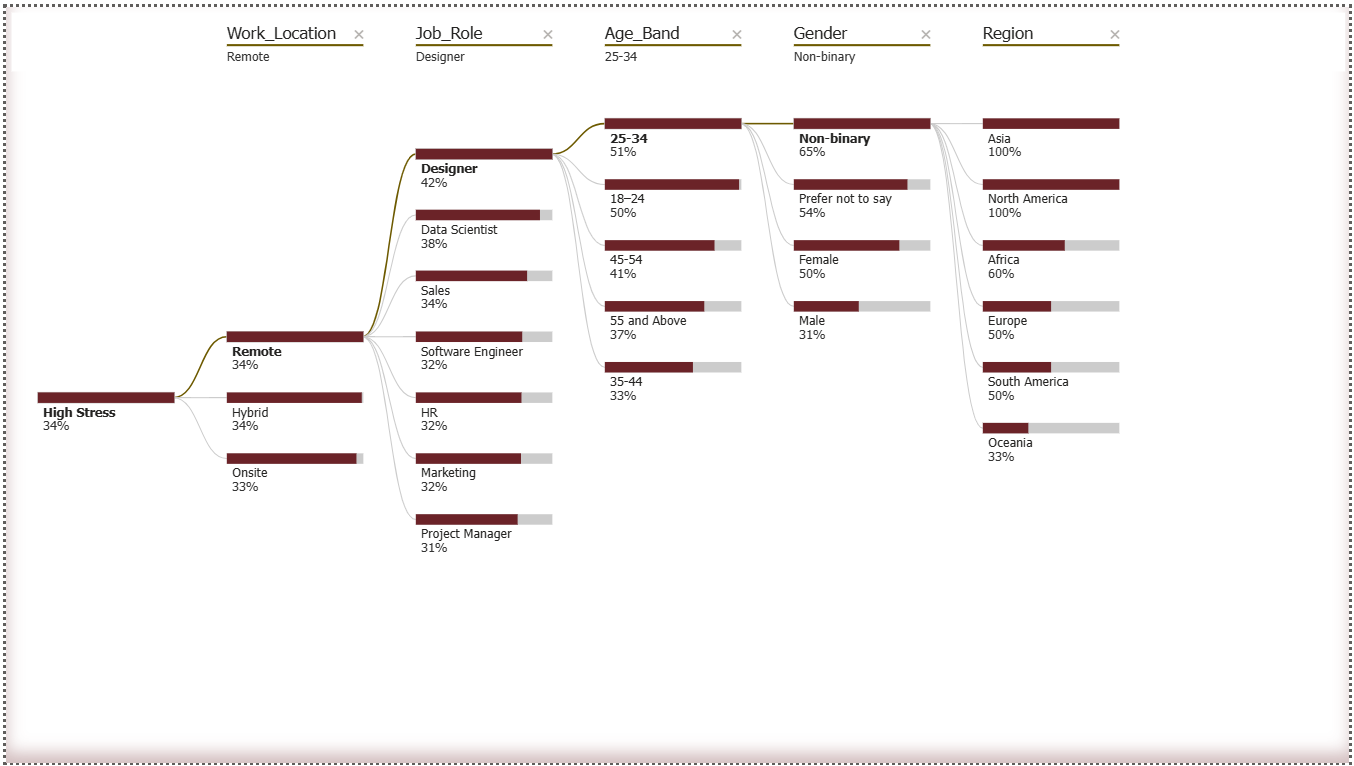

The dashboard page shown, as its layout file describes it:
{"tool":"powerbi","page":{"name":"Page 3","canvas":[1280,720],"ordinal":2},"visuals":[{"type":"decompositionTreeVisual","fields":{"ExplainBy":["Impact_of_Remote_Work_on_Mental_Health.Work_Location","Impact_of_Remote_Work_on_Mental_Health.Job_Role","Impact_of_Remote_Work_on_Mental_Health.Age_Band","Impact_of_Remote_Work_on_Mental_Health.Gender","Impact_of_Remote_Work_on_Mental_Health.Region"],"Analyze":["DAX Measures.High Stress"]},"box":[0,0,1280.4,720.5],"z":0}]}

Visuals, with their boxes in screenshot pixels (x1, y1, x2, y2), scaled from the page's 1280x720 canvas onto the 1354x766 screenshot:
decompositionTreeVisual - Impact_of_Remote_Work_on_Mental_Health.Work_Location x Impact_of_Remote_Work_on_Mental_Health.Job_Role: BBox(0, 0, 1353, 765)
